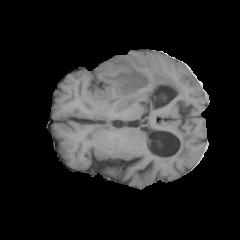glioma: (82, 55, 195, 155)
